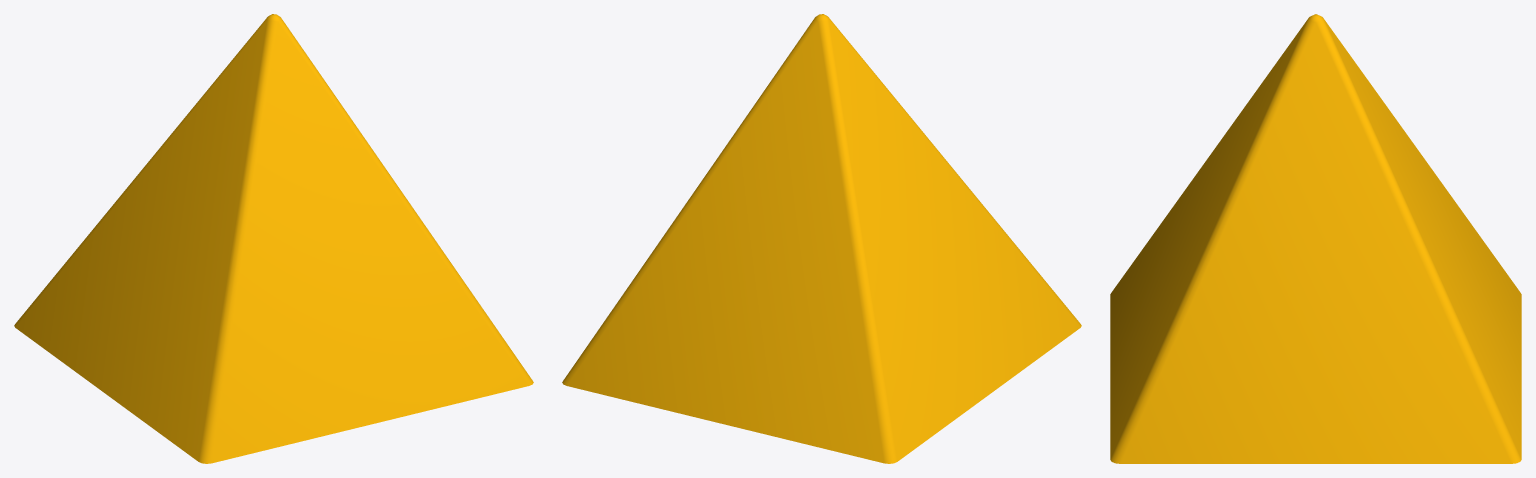
The picture shows the model from 3 angles, left to right: view 1: azimuth 30°, elevation 25°; view 2: azimuth 150°, elevation 25°; view 3: azimuth 270°, elevation 25°; orthographic projection. The views are drawn at different scales.
Parts seen in each view (by area): view 1: Pyramid; view 2: Pyramid; view 3: Pyramid.
Boxes of the visible parts, left/top/right/bottom form: Pyramid: left=14, top=14, right=533, bottom=463; Pyramid: left=562, top=14, right=1081, bottom=463; Pyramid: left=1110, top=14, right=1521, bottom=463.
Size of the model in its own units: 1 by 0.9698 by 1.
